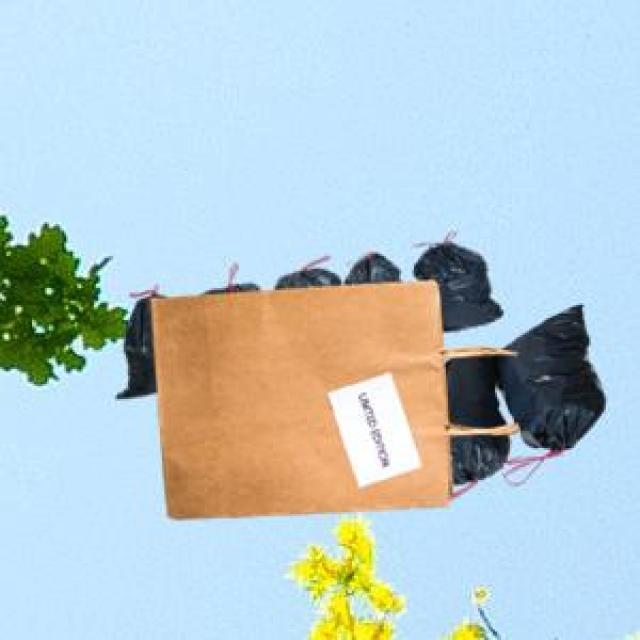miscellaneous trash: (113, 237, 499, 395), (440, 301, 602, 480)
paper: (148, 275, 514, 514)
